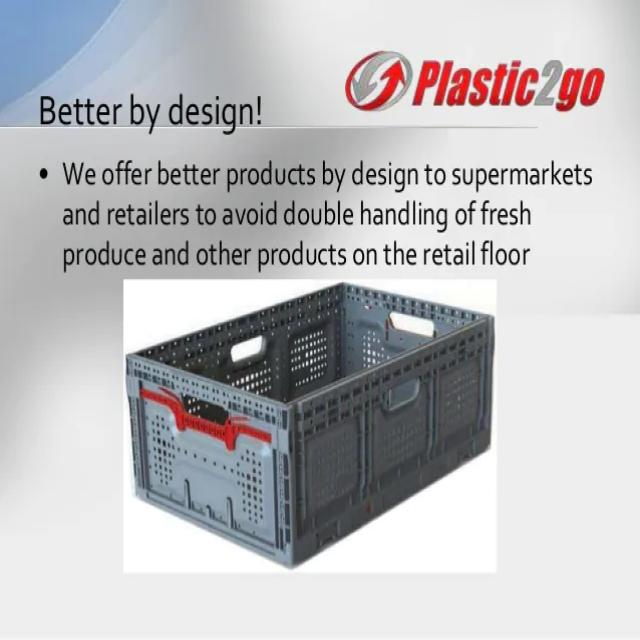basket: (82, 212, 554, 614)
